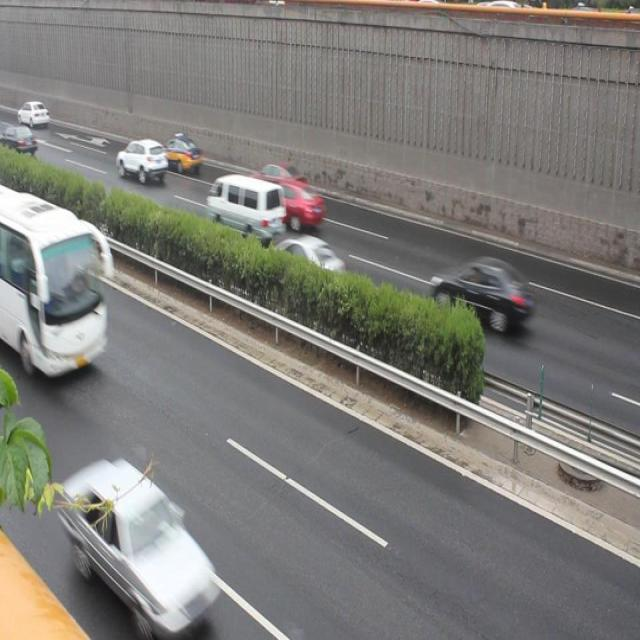car: (64, 462, 229, 618), (429, 256, 532, 324), (273, 228, 347, 286), (270, 177, 325, 231), (114, 136, 165, 188), (250, 156, 304, 194), (160, 129, 203, 172)
truck: (210, 170, 281, 241)
van: (1, 178, 110, 373)
